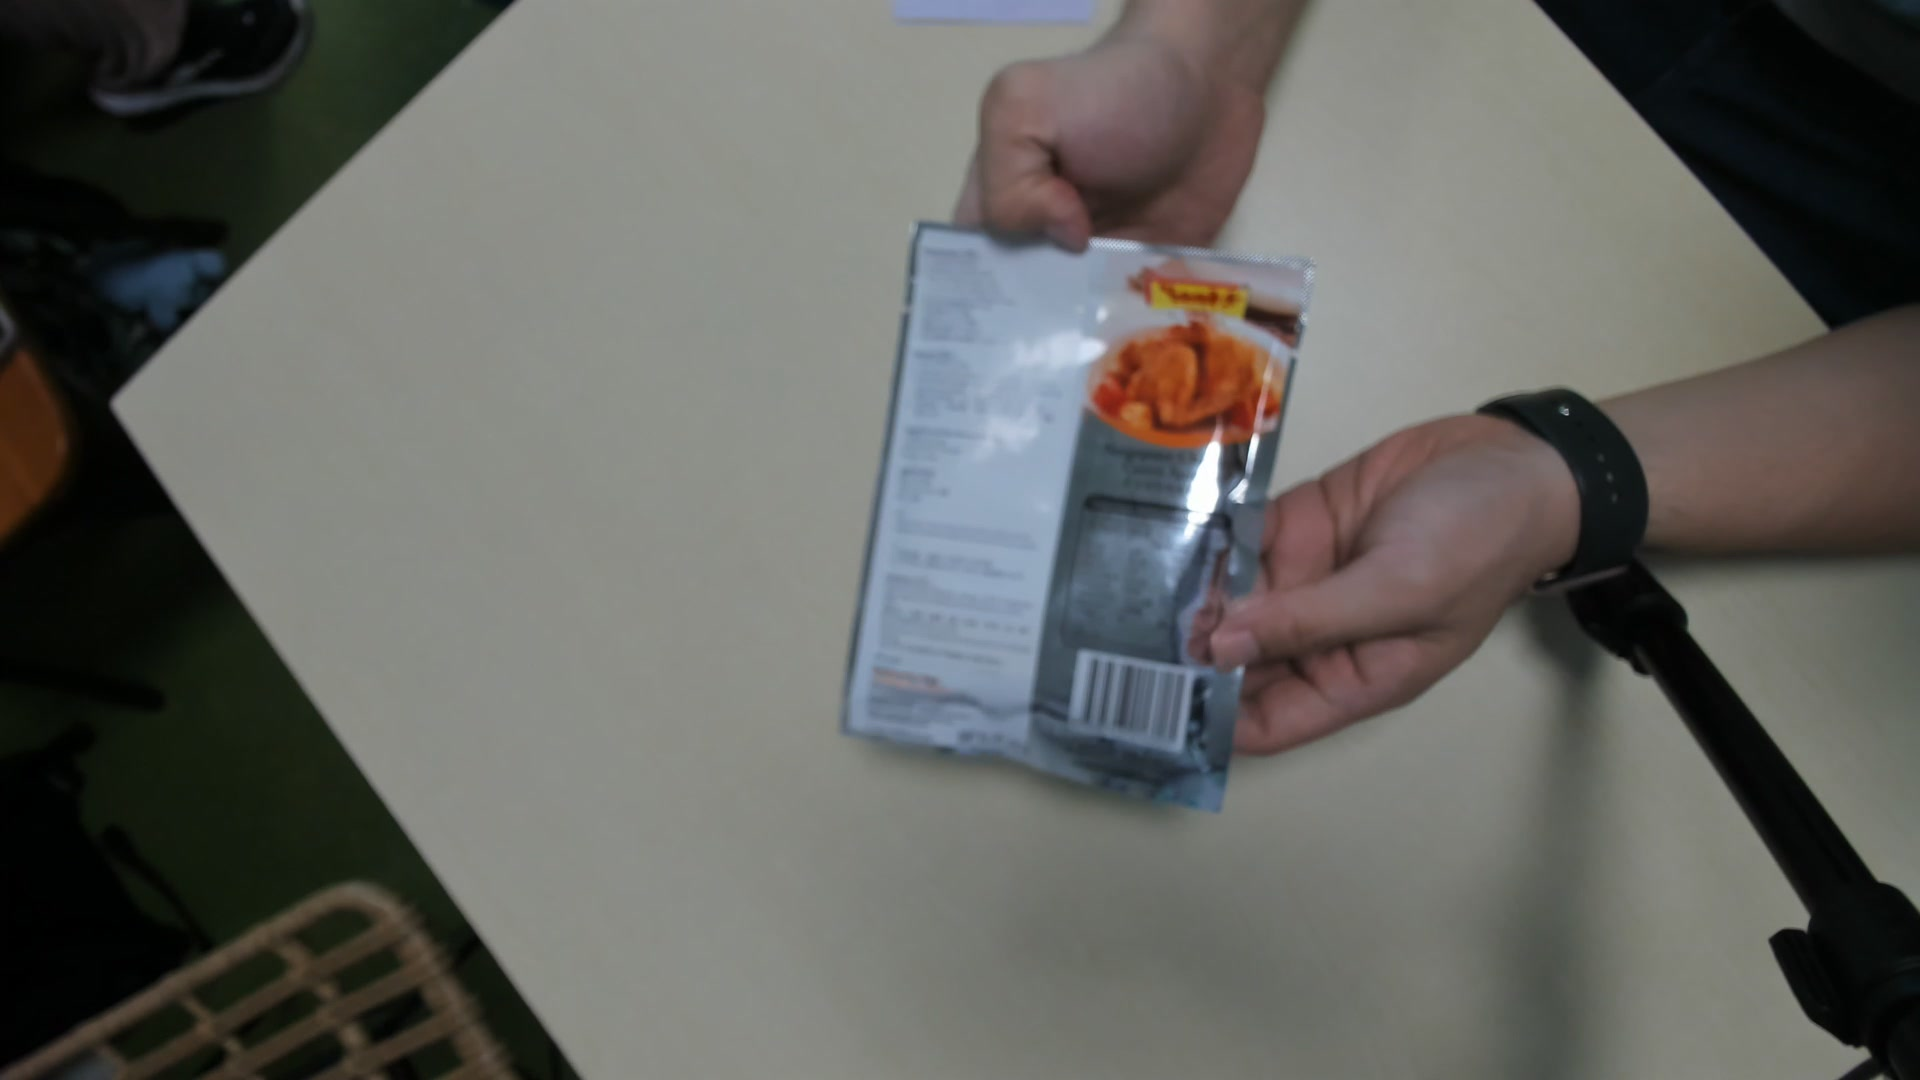CurryPastePowderSauce_0-99g_Halal_Healthy: (856, 218, 1305, 822)
